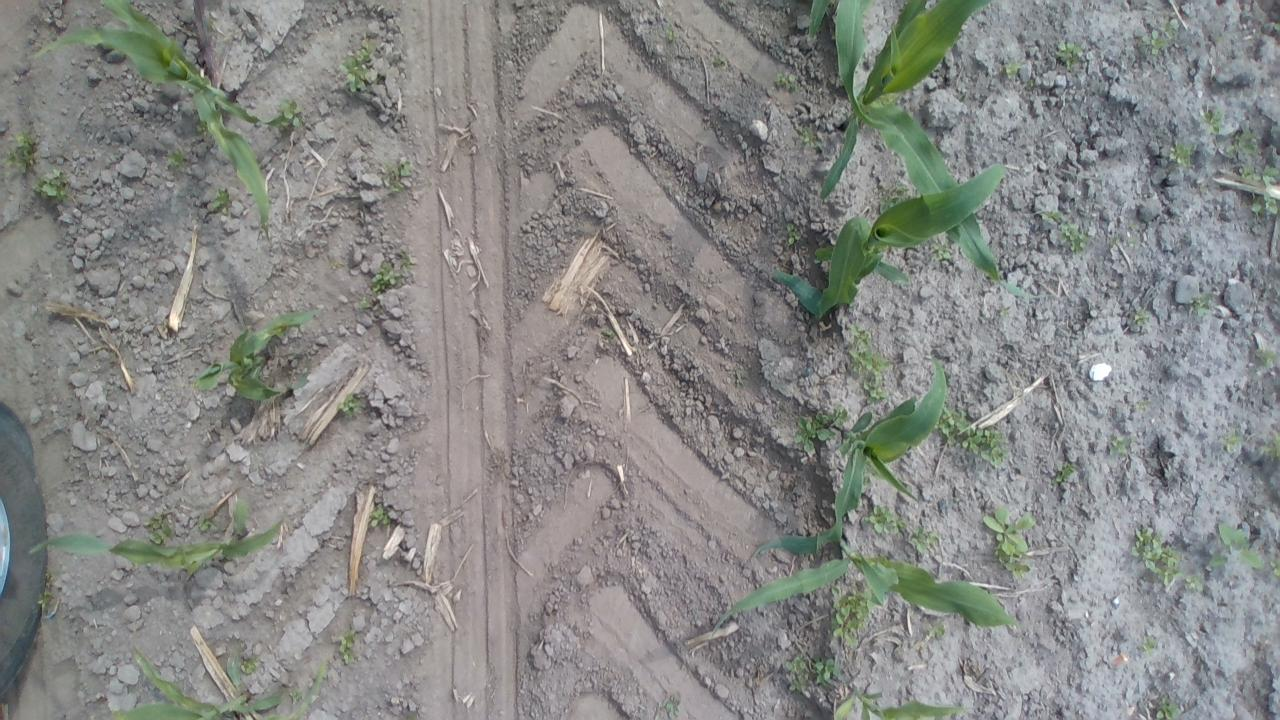Maize: (812, 0, 1042, 309), (27, 0, 290, 239), (742, 348, 958, 570), (753, 158, 1014, 320), (704, 534, 1027, 652), (22, 489, 300, 583), (90, 642, 314, 718), (185, 299, 322, 404), (823, 672, 976, 720), (800, 0, 839, 42)
Weeds: (934, 404, 1012, 468), (841, 320, 891, 406), (981, 503, 1038, 578), (1130, 524, 1182, 590), (363, 248, 417, 309), (829, 581, 876, 650), (789, 402, 850, 454), (780, 652, 844, 694), (1040, 206, 1092, 257), (1214, 521, 1264, 573), (336, 43, 382, 96), (1132, 14, 1184, 58), (28, 162, 78, 207), (2, 128, 46, 176), (378, 158, 422, 198), (269, 98, 308, 138), (862, 502, 900, 542), (140, 511, 177, 546), (875, 182, 914, 214), (204, 185, 236, 223), (906, 524, 940, 558), (1121, 299, 1152, 333), (334, 389, 369, 419), (335, 627, 360, 668), (1108, 432, 1140, 464), (1226, 130, 1260, 160), (1236, 160, 1278, 184), (1054, 39, 1090, 67), (165, 148, 198, 178), (1168, 140, 1198, 173), (40, 566, 60, 612), (1218, 427, 1248, 457), (1250, 344, 1278, 374), (922, 616, 952, 644), (1051, 456, 1078, 487), (1248, 192, 1279, 219), (651, 696, 688, 718), (1150, 691, 1180, 718), (1189, 292, 1217, 320), (284, 684, 314, 710), (194, 114, 221, 142), (794, 121, 818, 152), (928, 238, 954, 266), (780, 222, 804, 252), (1136, 631, 1162, 658), (1199, 108, 1225, 133), (772, 70, 799, 94), (368, 502, 392, 526), (233, 656, 260, 676), (729, 362, 749, 389), (1257, 436, 1276, 464), (1004, 56, 1024, 82), (1184, 572, 1206, 595), (314, 662, 333, 686), (1130, 396, 1150, 413), (708, 52, 725, 70), (662, 25, 678, 42), (1024, 74, 1038, 90)
